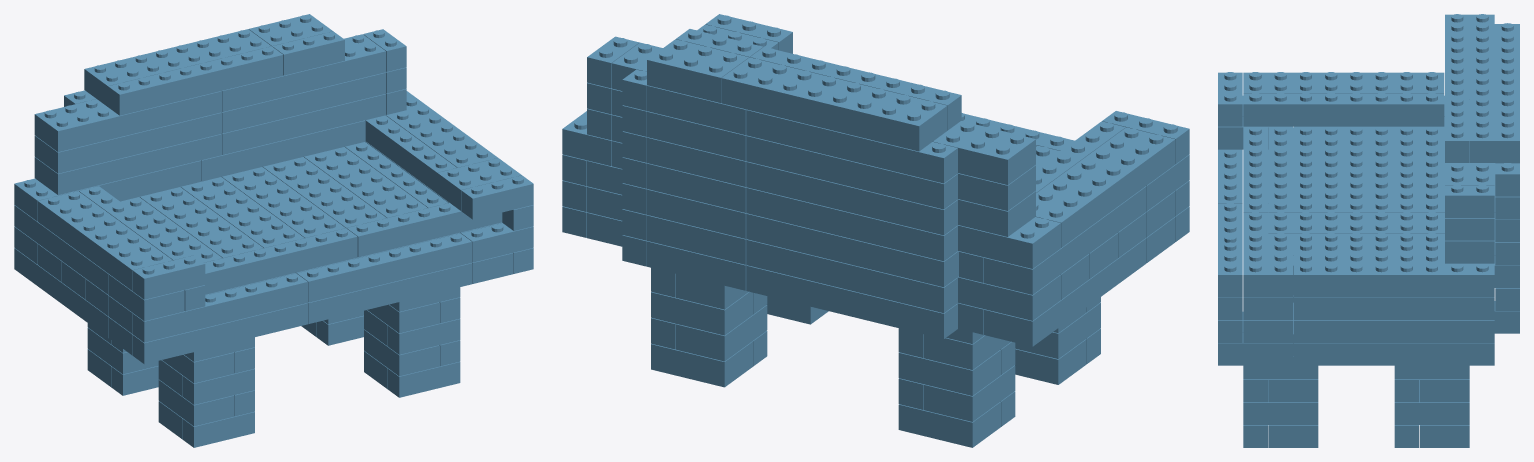
The model's file is 211_sofa_L1.glb.
3 renders of one model, left to right at view 1: azimuth 30°, elevation 25°; view 2: azimuth 150°, elevation 25°; view 3: azimuth 270°, elevation 25°, orthographic. The views are drawn at different scales.
Bounding box in the file's own units: 18.98 × 13.13 × 11.98.
